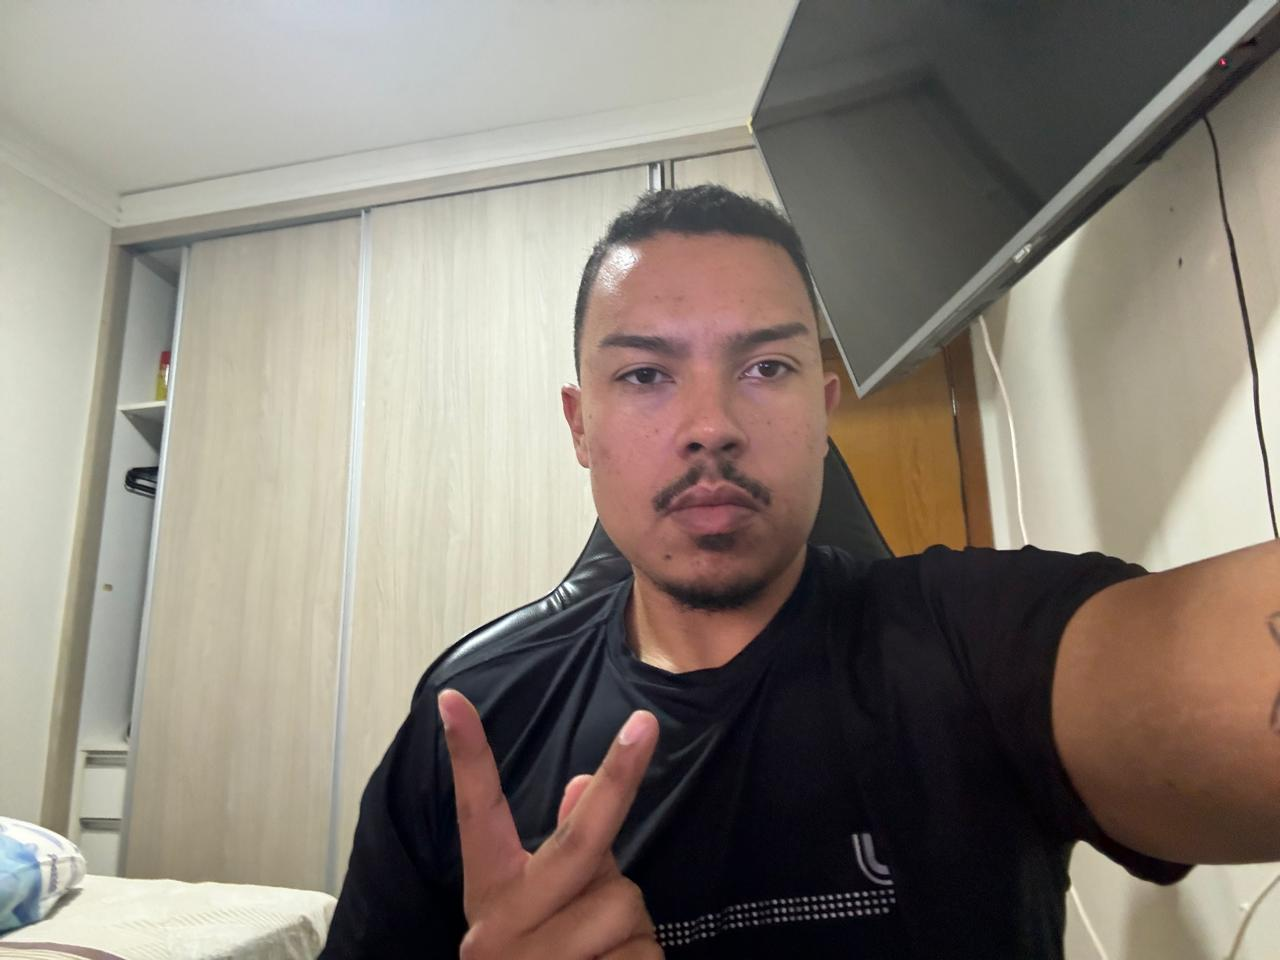h: (417, 675, 676, 960)
